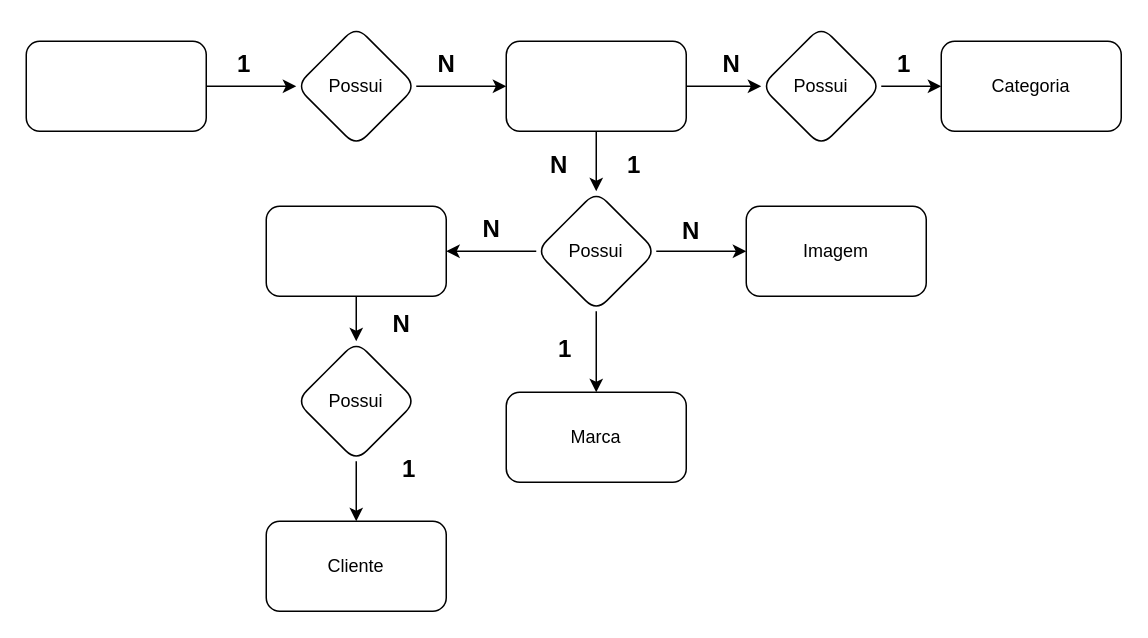
Image size: 1148x638. Some labels were removed from this diagram. The shapes that lost their labels are listed below. From the top down, each one's box as (x1, y1, x2, y2) in pixels, then its label:
(25, 40, 206, 131): Destaque
(505, 40, 686, 131): Produto
(265, 205, 446, 296): Pedido
